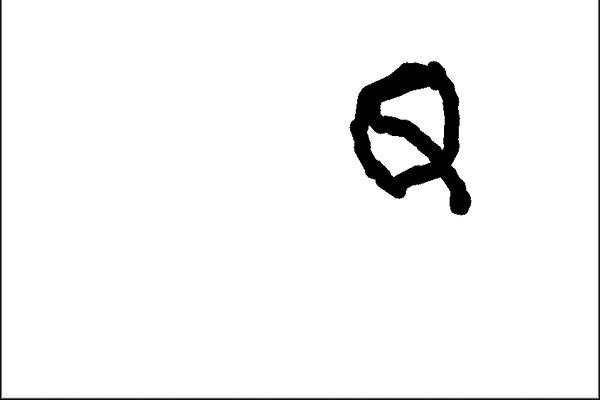Q: (341, 56, 475, 220)
